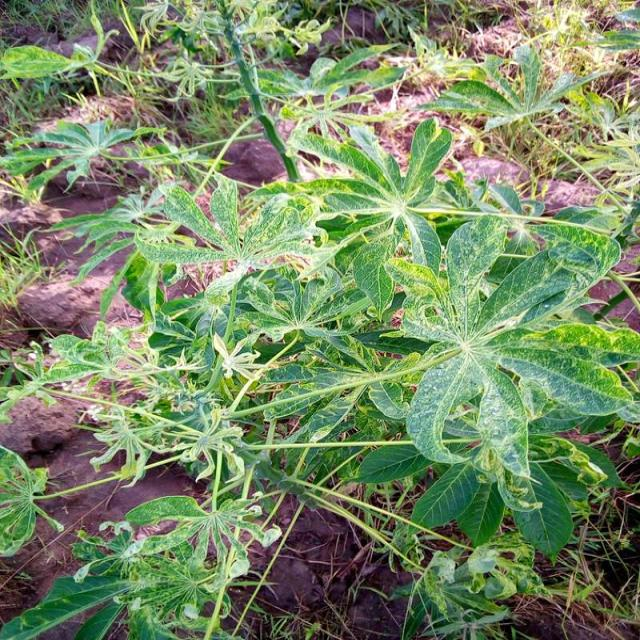cassava leaf: (1, 5, 638, 637), (375, 200, 637, 557)
